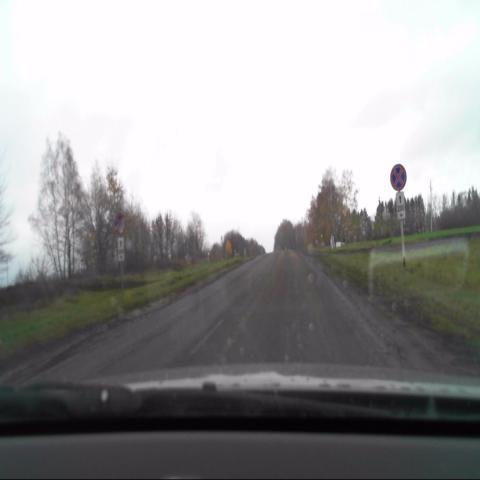3_27: (114, 211, 126, 234)
8_2_2: (396, 192, 406, 221)
